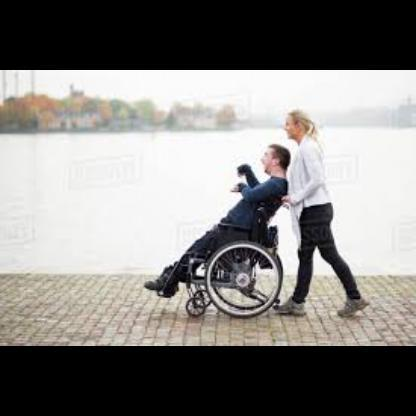push_wheelchair: (273, 108, 371, 318)
wheelchair: (144, 143, 290, 319)
